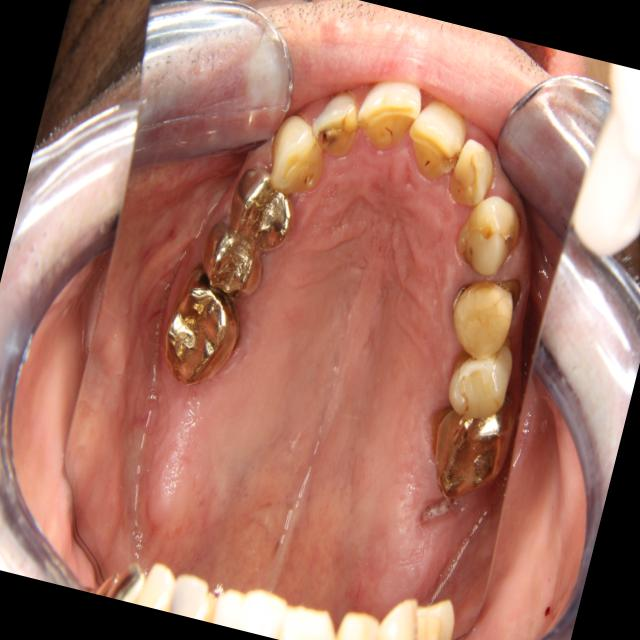tooth: (142, 255, 263, 407), (409, 378, 526, 517), (211, 146, 309, 263), (433, 254, 533, 368), (390, 86, 482, 198), (444, 178, 534, 291), (250, 99, 338, 208), (185, 207, 281, 304), (434, 328, 524, 431), (343, 64, 433, 161), (302, 77, 369, 171), (441, 122, 505, 215)
